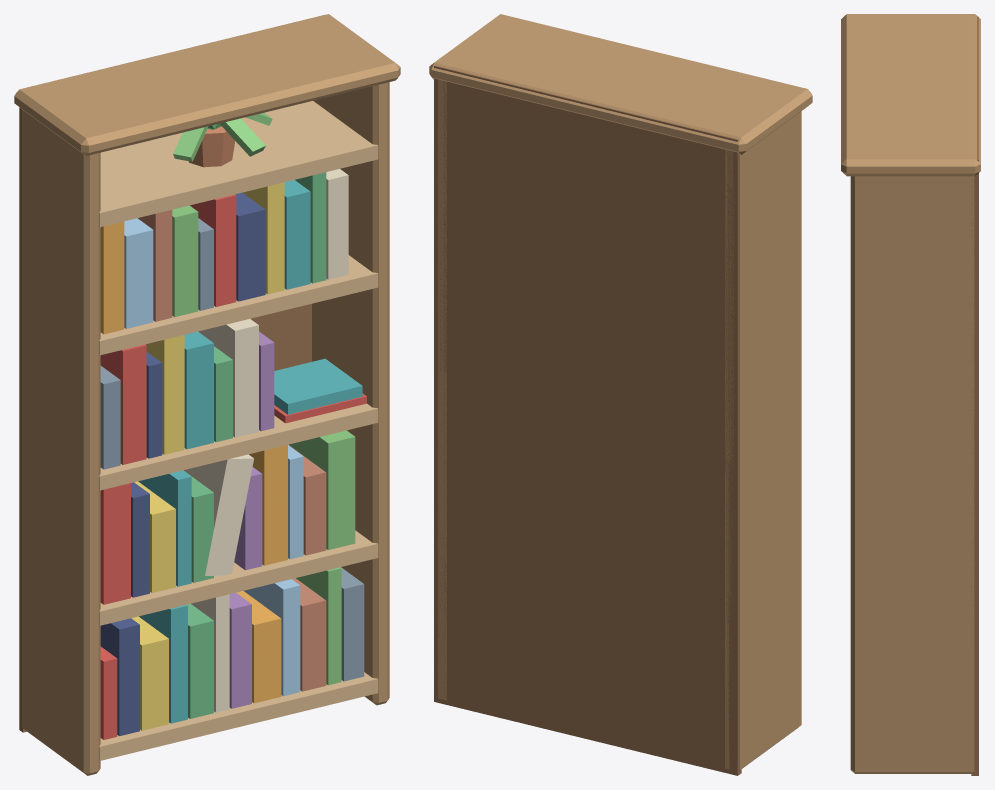
File: prop_bookshelf_01.glb
The picture shows the model from 3 angles, left to right: view 1: azimuth 30°, elevation 25°; view 2: azimuth 150°, elevation 25°; view 3: azimuth 270°, elevation 25°; orthographic projection. The views are drawn at different scales.
Visible parts, largest first — view 1: prop_bookshelf_01_body; view 2: prop_bookshelf_01_body; view 3: prop_bookshelf_01_body.
Boxes of the visible parts, left/top/right/bottom form: prop_bookshelf_01_body: left=14, top=14, right=400, bottom=775; prop_bookshelf_01_body: left=429, top=14, right=812, bottom=775; prop_bookshelf_01_body: left=841, top=14, right=980, bottom=775.
Bounding box in the file's own units: 0.94 × 1.8 × 0.37.
